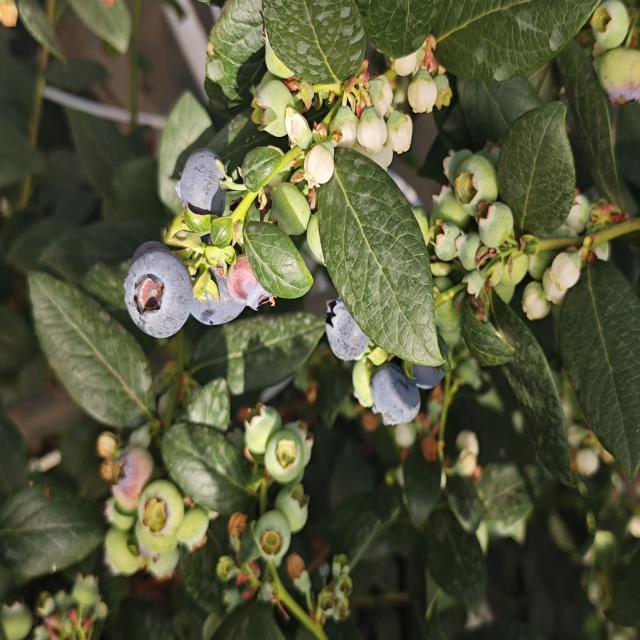ripe: (119, 245, 197, 339), (188, 257, 274, 329), (174, 143, 237, 217), (319, 297, 371, 362), (372, 376, 426, 428), (410, 338, 456, 393)
